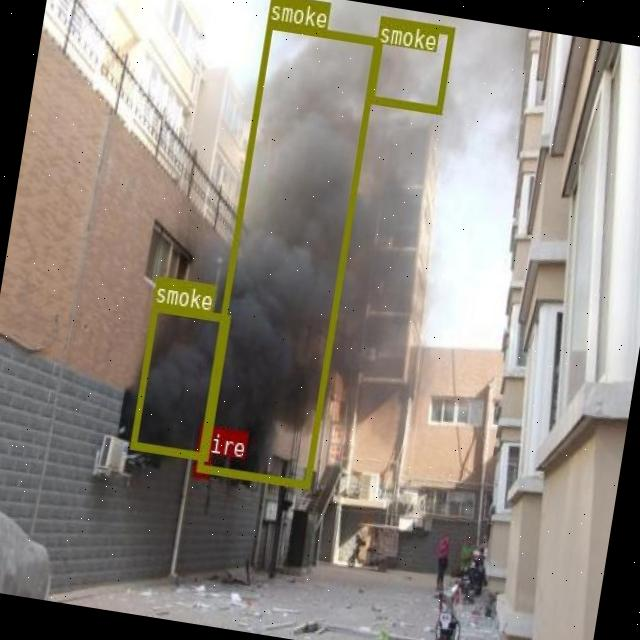fire: (193, 451, 211, 476)
smoke: (196, 20, 380, 488), (130, 303, 230, 459), (366, 16, 454, 112)
